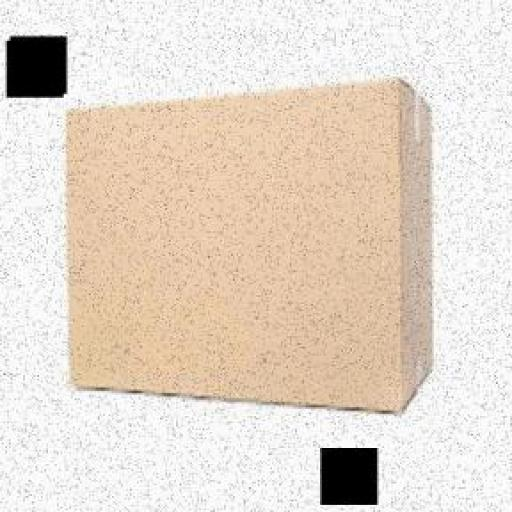box: (61, 72, 440, 424)
